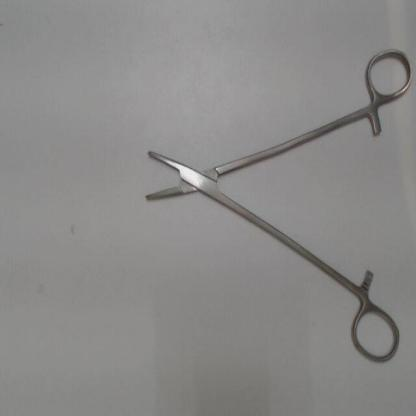8 Mayo Needle Holder: (134, 40, 416, 368)
